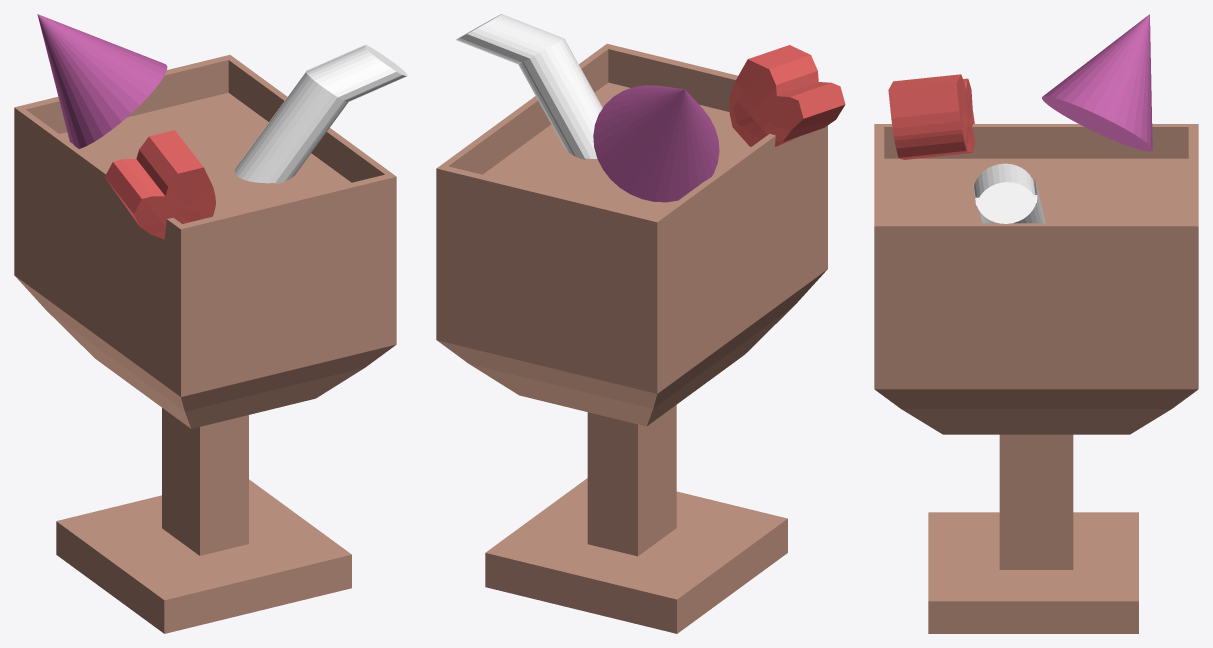
Rendered from MilkShake.fbx.
3 renders of one model, left to right at view 1: azimuth 30°, elevation 25°; view 2: azimuth 150°, elevation 25°; view 3: azimuth 270°, elevation 25°, orthographic. The views are drawn at different scales.
Parts seen in each view (by area): view 1: Cone; view 2: Cone; view 3: Cone.
Boxes of the visible parts, x1=… form: Cone: x1=14, y1=14, x2=407, y2=633; Cone: x1=436, y1=14, x2=845, y2=633; Cone: x1=874, y1=14, x2=1198, y2=633.
Size of the model in its own units: 0.2165 by 0.3463 by 0.1938.
